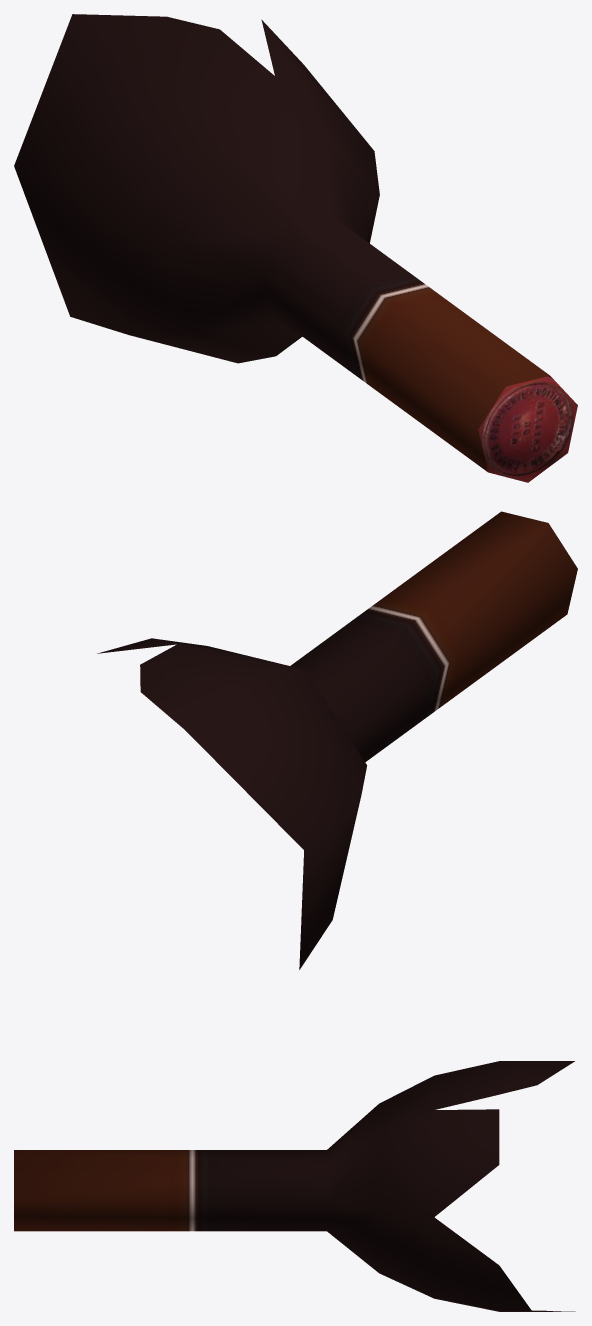
Rendered from prop_winebottle_broken_top.glb.
The picture shows the model from 3 angles, top to bottom: view 1: azimuth 30°, elevation 25°; view 2: azimuth 150°, elevation 25°; view 3: azimuth 270°, elevation 25°; orthographic projection. The views are drawn at different scales.
Bounding box in the file's own units: 3.41 × 3.49 × 7.88.
1 material, 1 textured.
